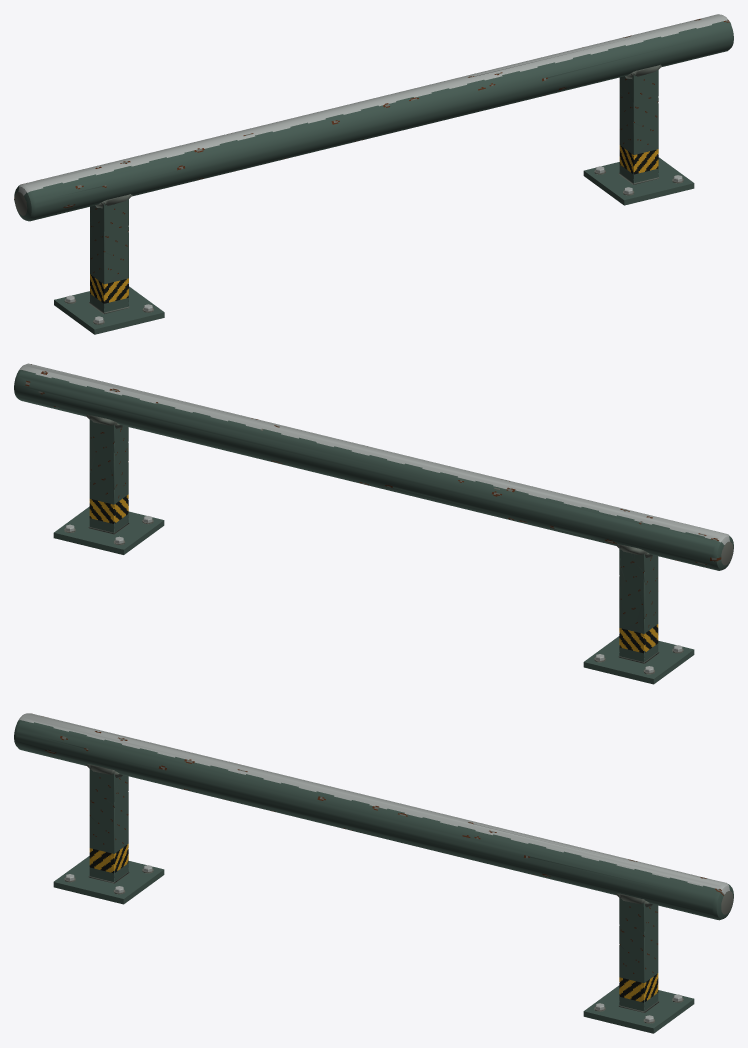
Rendered from runner-rail.glb.
The picture shows the model from 3 angles, top to bottom: view 1: azimuth 30°, elevation 25°; view 2: azimuth 150°, elevation 25°; view 3: azimuth 330°, elevation 25°; orthographic projection.
Parts seen in each view (by area): view 1: Rail; view 2: Rail; view 3: Rail.
Boxes of the visible parts, bbox=[...] form: Rail: bbox=[14, 14, 733, 334]; Rail: bbox=[14, 363, 733, 684]; Rail: bbox=[14, 713, 733, 1033].
Bounding box in the file's own units: 3 × 0.5942 × 0.2982.
